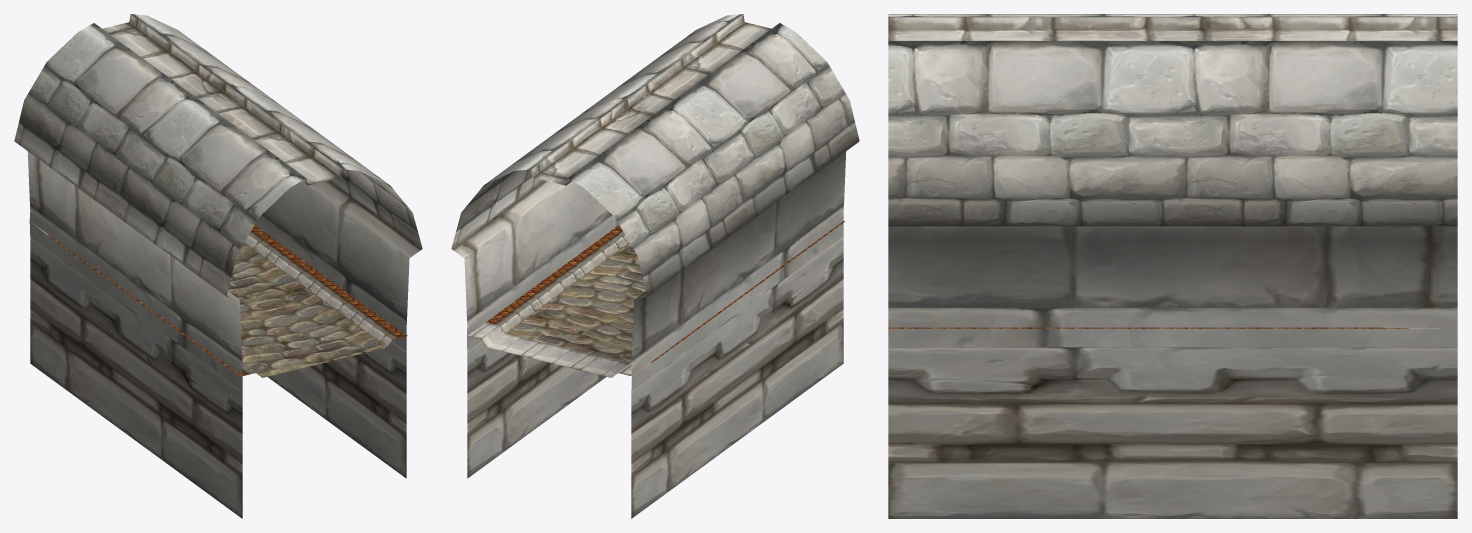
The model's file is stormwind_003.fbx.
3 views of the same model, side by side, from view 1: azimuth 30°, elevation 25°; view 2: azimuth 150°, elevation 25°; view 3: azimuth 270°, elevation 25° (orthographic). The views are drawn at different scales.
Parts seen in each view (by area): view 1: stormwind_003_11, stormwind_003_4, stormwind_003_46, stormwind_003_5, stormwind_003_12; view 2: stormwind_003_11, stormwind_003_4, stormwind_003_46, stormwind_003_5, stormwind_003_12, stormwind_003_45; view 3: stormwind_003_11, stormwind_003_4, stormwind_003_5, stormwind_003_12.
Boxes of the visible parts, box(x1,y1,x2,y2) form: stormwind_003_11: box(27, 151, 422, 518); stormwind_003_4: box(14, 14, 422, 296); stormwind_003_46: box(228, 243, 386, 377); stormwind_003_5: box(102, 14, 342, 185); stormwind_003_12: box(48, 225, 407, 377); stormwind_003_11: box(451, 151, 846, 518); stormwind_003_4: box(451, 14, 859, 296); stormwind_003_46: box(506, 243, 645, 363); stormwind_003_5: box(531, 14, 771, 185); stormwind_003_12: box(486, 221, 844, 362); stormwind_003_45: box(467, 322, 651, 377); stormwind_003_11: box(888, 226, 1457, 518); stormwind_003_4: box(888, 14, 1457, 226); stormwind_003_5: box(888, 17, 1457, 40); stormwind_003_12: box(888, 327, 1406, 328).
Bounding box in the file's own units: 10.07 × 15.95 × 18.89.
